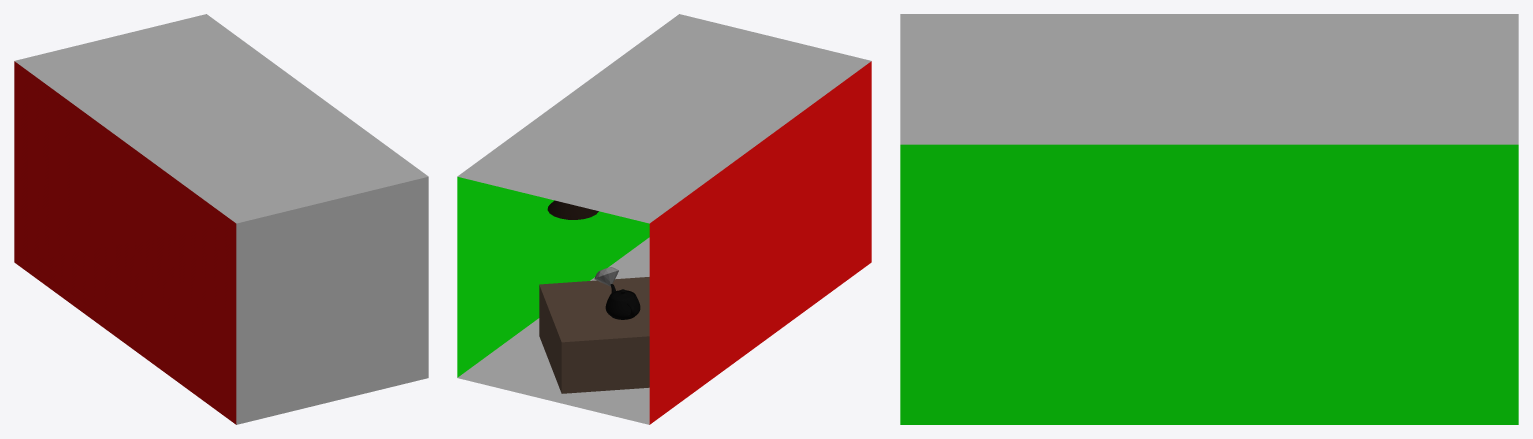
Rendered from room.obj.
The picture shows the model from 3 angles, left to right: view 1: azimuth 30°, elevation 25°; view 2: azimuth 150°, elevation 25°; view 3: azimuth 270°, elevation 25°; orthographic projection. The views are drawn at different scales.
Visible parts, largest first — view 1: room, wall; view 2: room, table, teapot, lightcone; view 3: room.
Boxes of the visible parts, x1=… form: room: x1=14, y1=14, x2=428, y2=424; wall: x1=236, y1=176, x2=428, y2=424; room: x1=457, y1=14, x2=871, y2=424; table: x1=539, y1=277, x2=649, y2=393; teapot: x1=605, y1=284, x2=640, y2=319; lightcone: x1=547, y1=200, x2=598, y2=219; room: x1=900, y1=14, x2=1518, y2=424.
Size of the model in its own units: 4 by 4 by 8.
